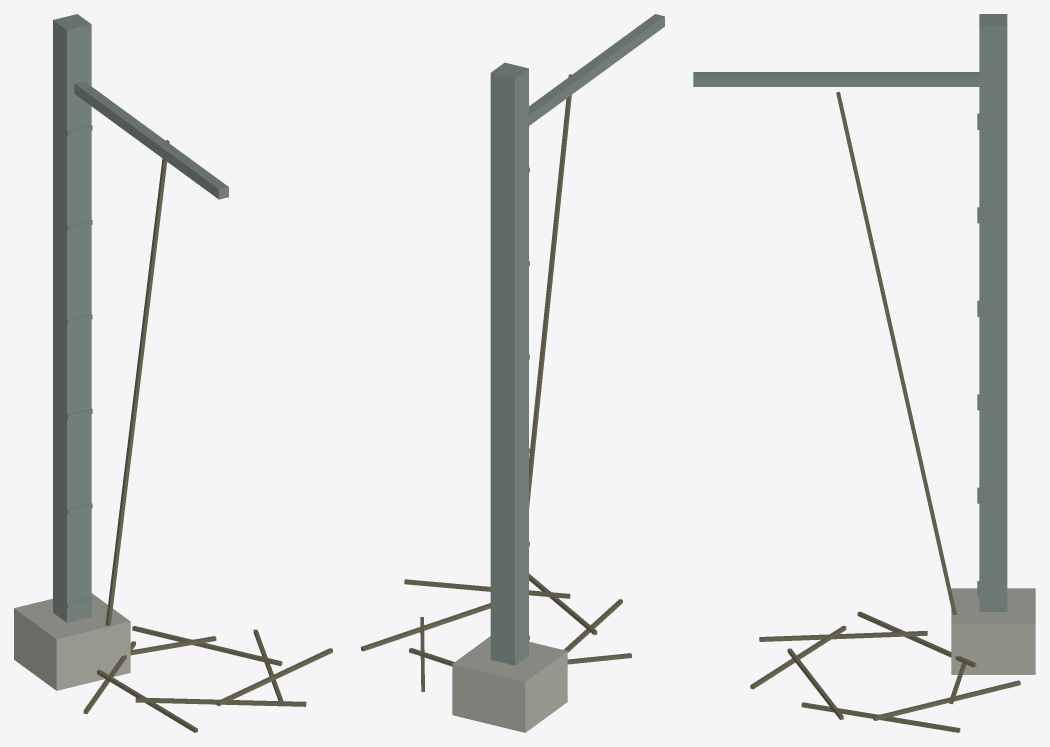
Rendered from SM_CatenariaCaida_v4_Enredado_LOD0.fbx.
The picture shows the model from 3 angles, left to right: view 1: azimuth 30°, elevation 25°; view 2: azimuth 150°, elevation 25°; view 3: azimuth 270°, elevation 25°; orthographic projection.
Parts seen in each view (by area): view 1: SM_aqui_paso_algo_v14_LOD0; view 2: SM_aqui_paso_algo_v14_LOD0; view 3: SM_aqui_paso_algo_v14_LOD0.
Boxes of the visible parts, box(x1,y1,x2,y2) form: SM_aqui_paso_algo_v14_LOD0: box(14, 14, 332, 732); SM_aqui_paso_algo_v14_LOD0: box(361, 14, 664, 732); SM_aqui_paso_algo_v14_LOD0: box(693, 14, 1035, 732).
Bounding box in the file's own units: 2.91 × 7.5 × 3.65.
